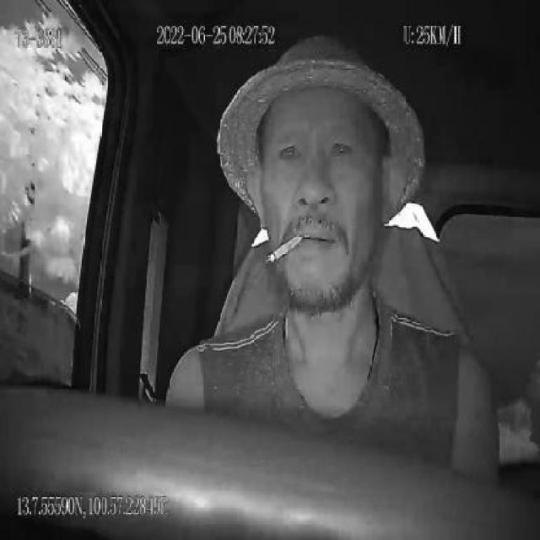smoking: (266, 230, 304, 266)
